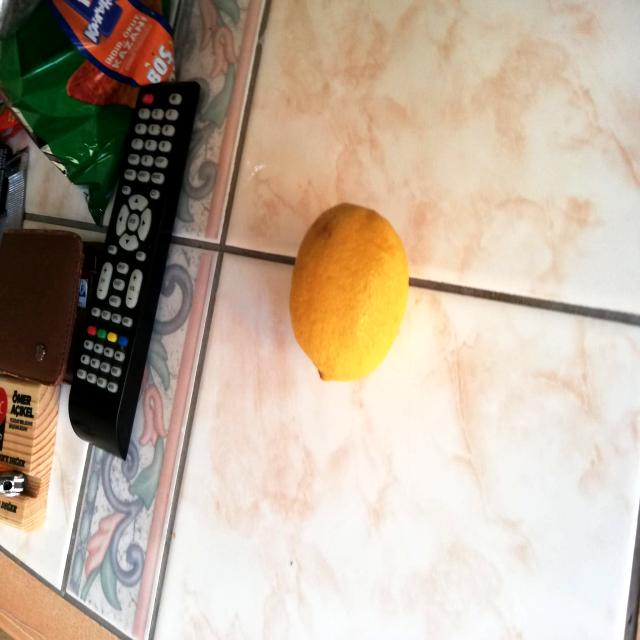lemon: (282, 188, 417, 390)
